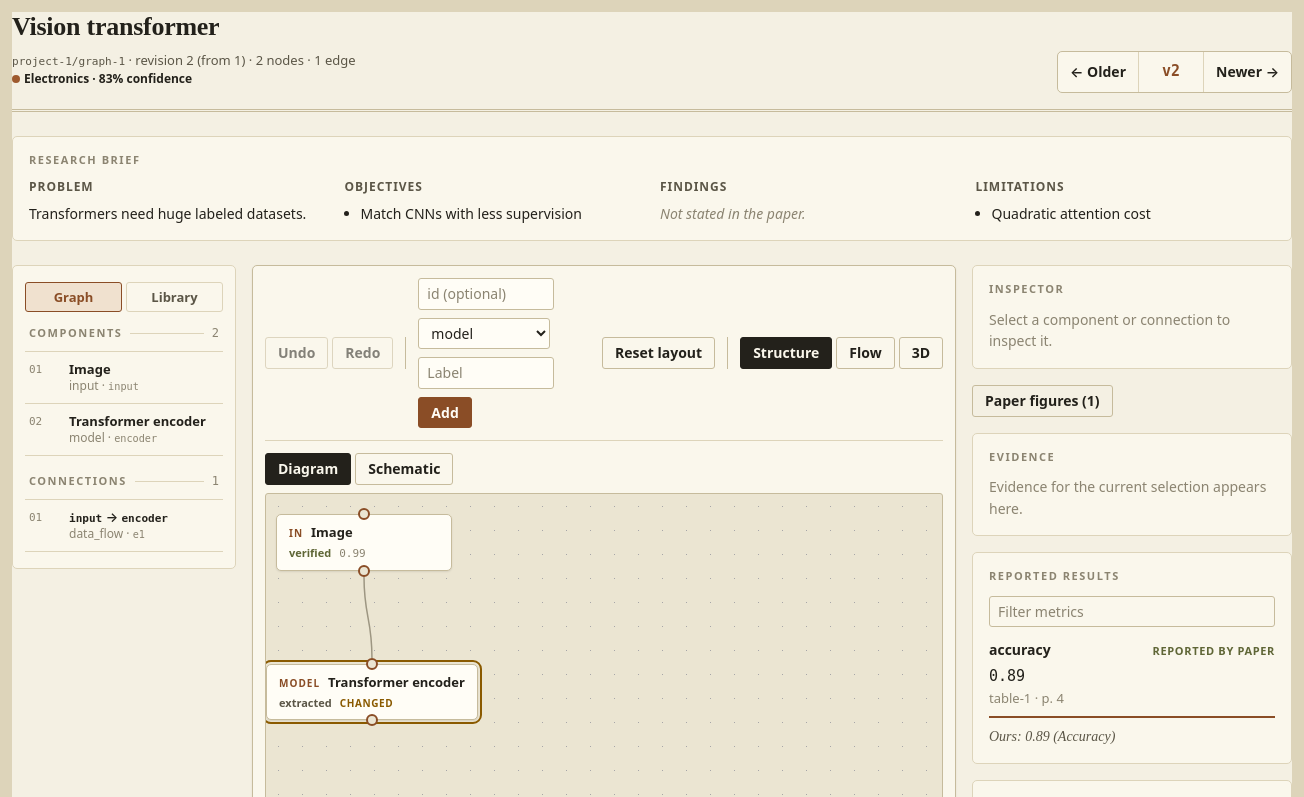
it: canvas editing › adds a node through the toolbar and navigates to the new revision
Expected: the heading "Vision transformer" is shown, [12,12,219,41]
Step 1. Type "Head" into the field named "Node label" → (486,373), box [418,357,554,389]
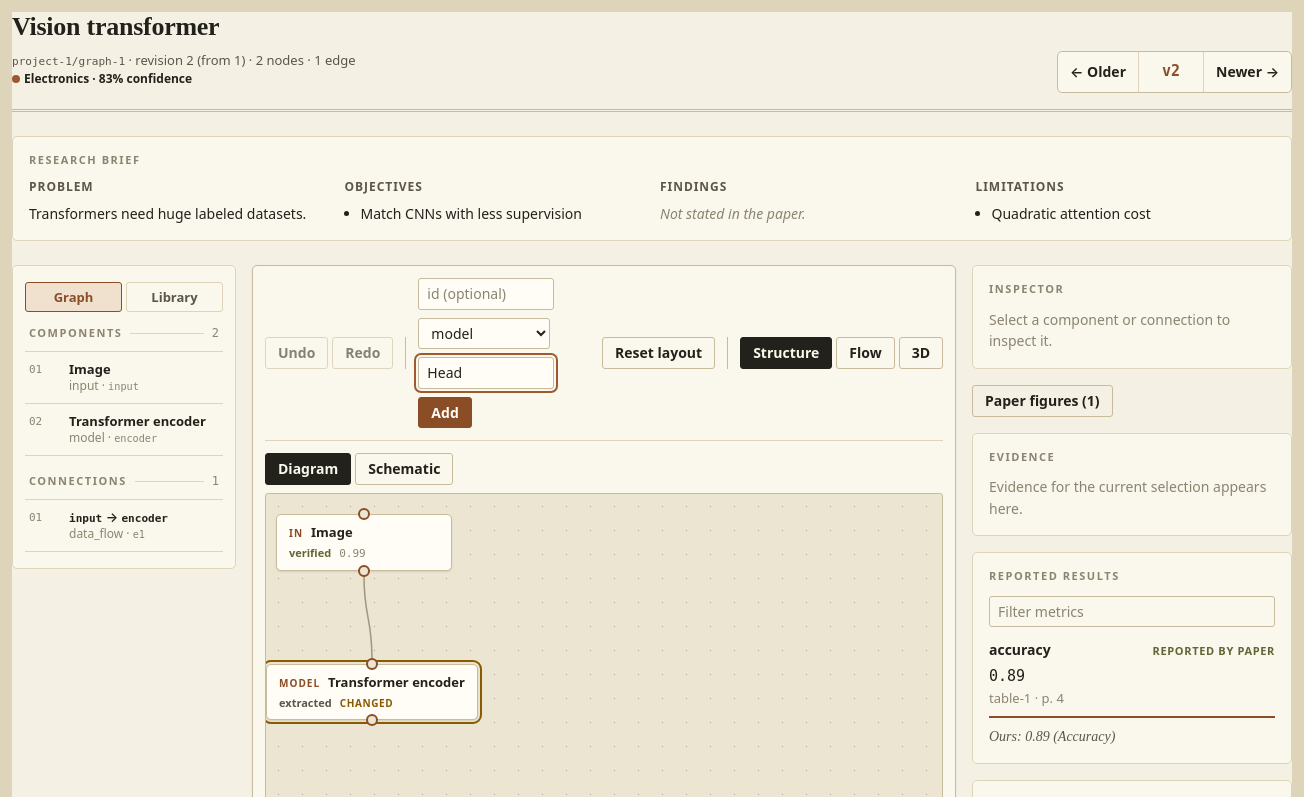
Step 2. Click the button "Add" → (445,412), box [418,397,472,428]
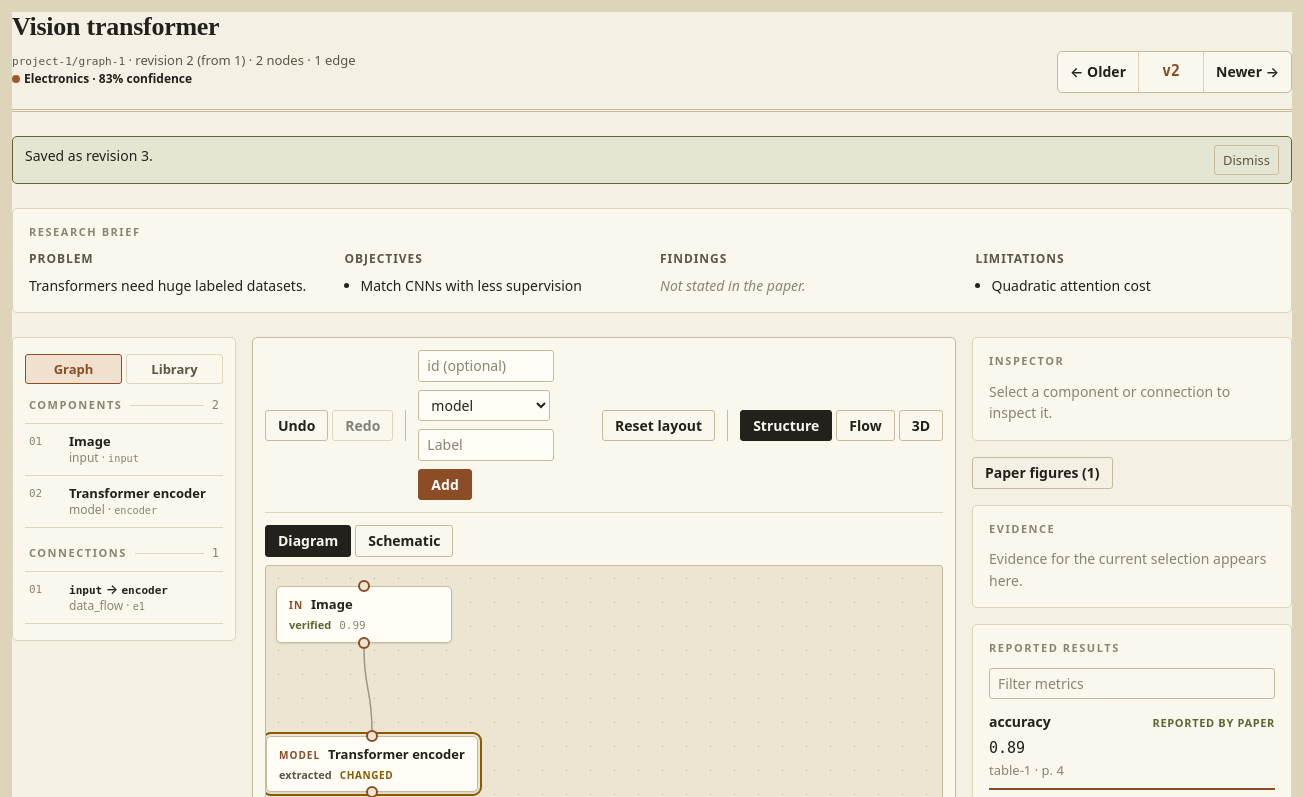
Result: the text "Saved as revision 3." is shown at [25,145,153,166]
